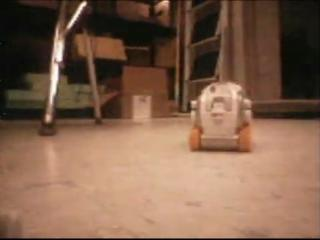cozmo: (187, 80, 254, 152)
